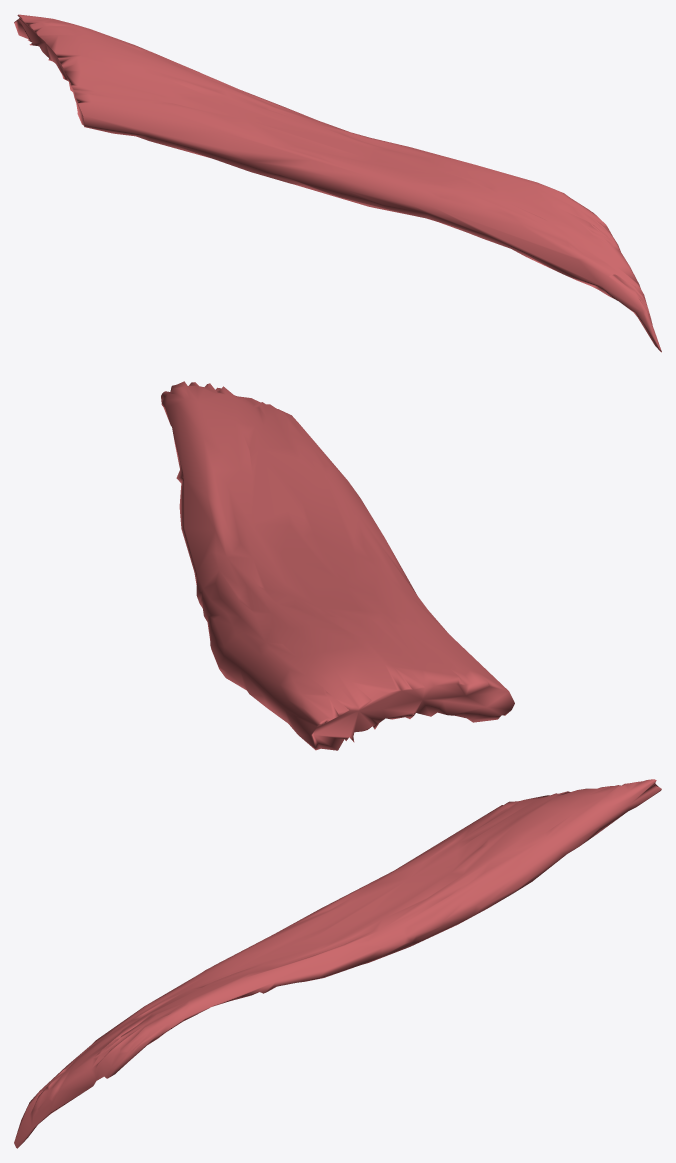
3 renders of one model, top to bottom at view 1: azimuth 30°, elevation 25°; view 2: azimuth 150°, elevation 25°; view 3: azimuth 270°, elevation 25°, orthographic. The views are drawn at different scales.
Visible parts, largest first — view 1: 右侧小菱形肌; view 2: 右侧小菱形肌; view 3: 右侧小菱形肌.
Boxes of the visible parts, left/top/right/bottom form: 右侧小菱形肌: left=14, top=14, right=661, bottom=352; 右侧小菱形肌: left=161, top=381, right=514, bottom=750; 右侧小菱形肌: left=14, top=779, right=661, bottom=1148.
Size of the model in its own units: 0.0963 by 0.0511 by 0.1489.
